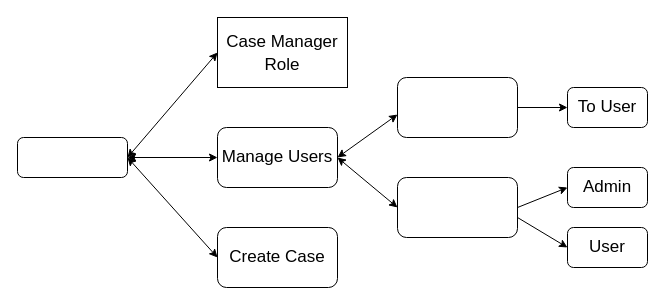
This 665x305 diagram has some shape labels left out. The centre of each missing label's shape, as x and y in pixels:
"Assign Case Specific Role" belongs at (x=457, y=107).
"Create New User" belongs at (x=457, y=207).
"Login" belongs at (x=72, y=157).
